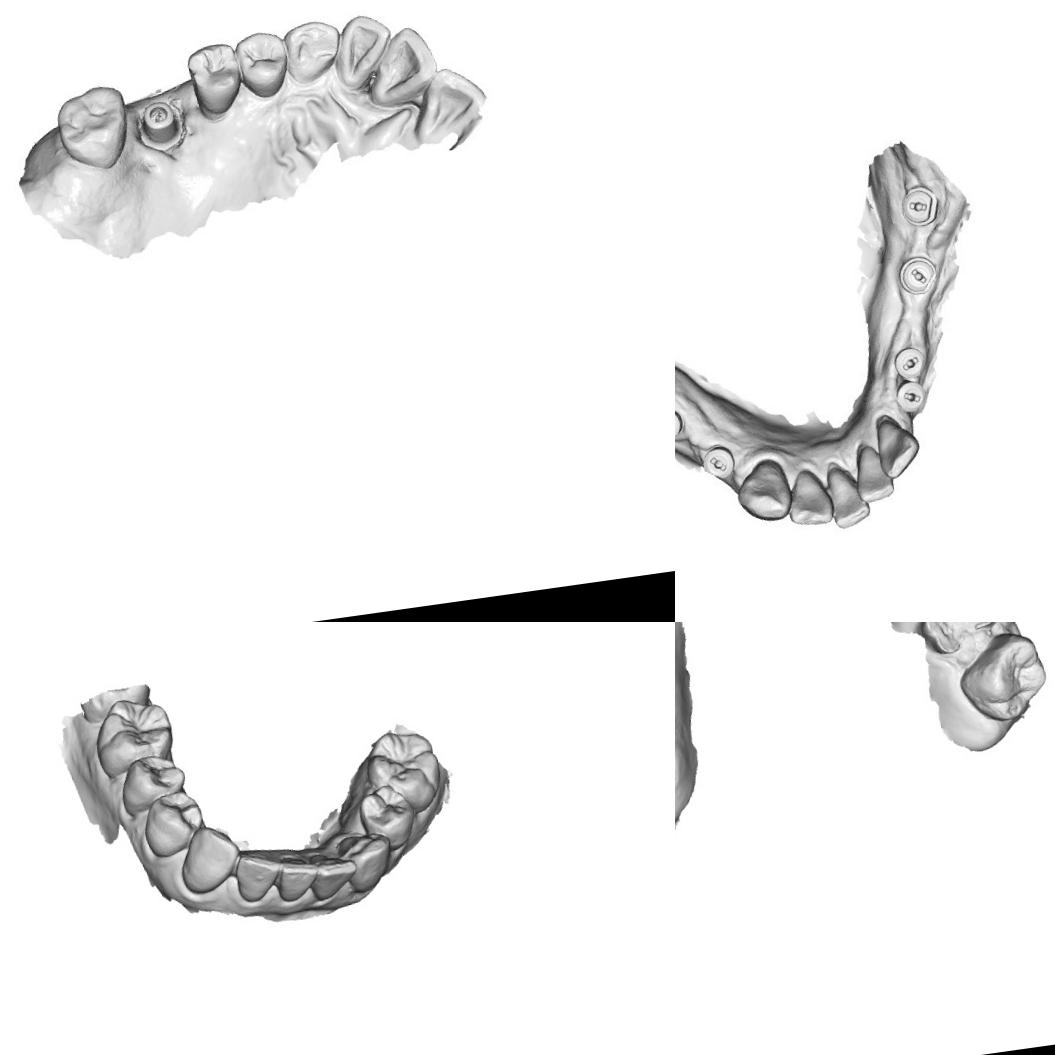abutment: (136, 91, 185, 146)
canine: (174, 820, 243, 898), (730, 454, 794, 526), (282, 15, 344, 88), (339, 826, 394, 894)
implant_minus: (896, 181, 944, 229), (895, 252, 940, 298), (698, 442, 740, 482), (892, 378, 930, 416), (891, 343, 928, 382), (675, 403, 686, 445)
incisor: (400, 61, 490, 149), (360, 22, 444, 109), (327, 7, 400, 90), (872, 414, 924, 482), (824, 461, 874, 531), (782, 466, 836, 530), (850, 441, 898, 506), (306, 846, 360, 903), (229, 849, 282, 906), (272, 852, 316, 904)
molar: (952, 626, 1054, 732), (361, 723, 446, 820), (50, 81, 136, 175), (88, 696, 176, 773)
premolar: (181, 34, 248, 120), (134, 786, 206, 860), (354, 780, 418, 851), (232, 26, 290, 104), (116, 753, 184, 810)
